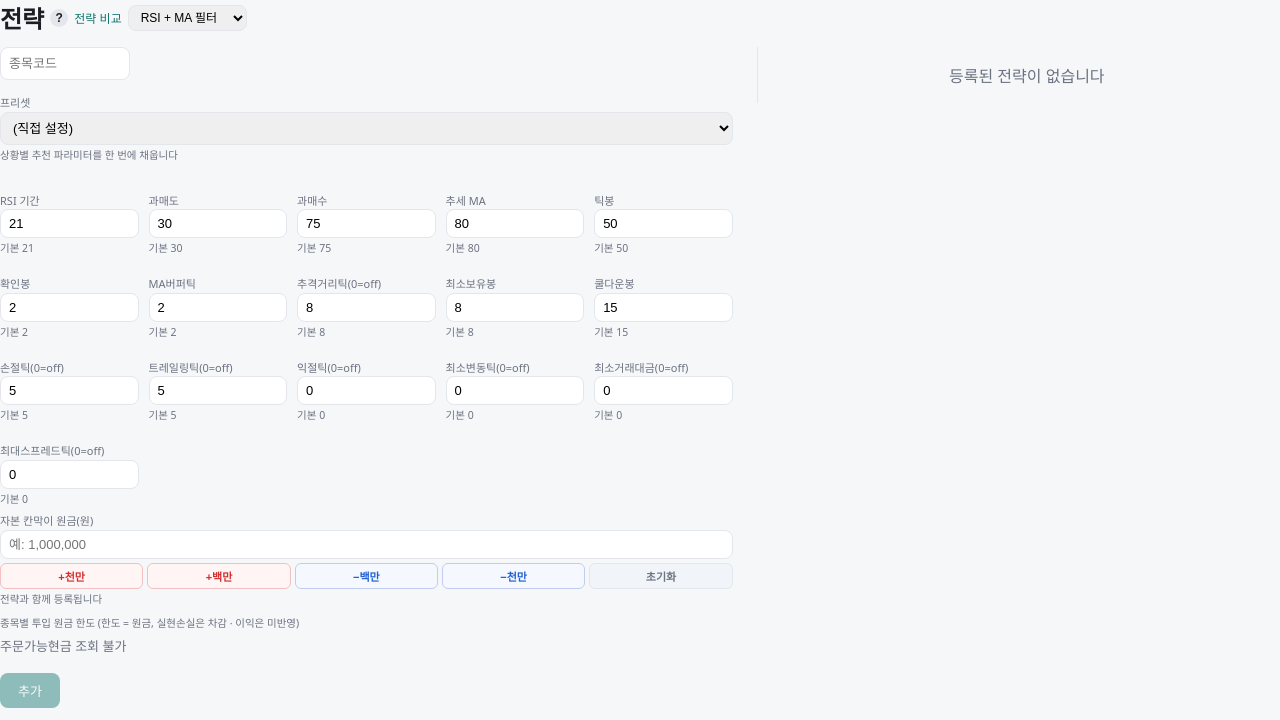
StrategyPanel › 전략 비교 버튼을 누르면 비교표 팝업이 뜬다
Click the button "전략 비교" at (98, 18), box [74,9,122,26]
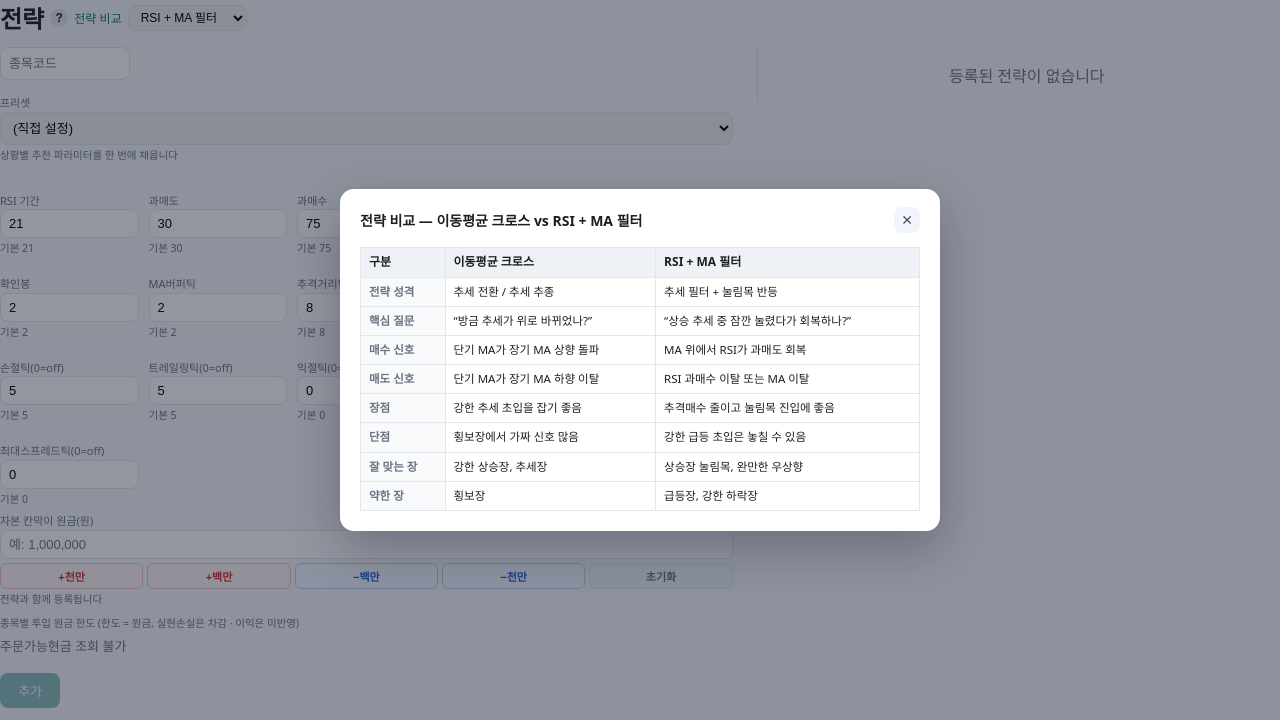
Check: the dialog shows "추세 전환 / 추세 추종", box [454,284,554,299]
Check: the dialog shows "추세 필터 + 눌림목 반등", box [664,284,778,299]
Check: the dialog shows "횡보장에서 가짜 신호 많음", box [454,430,579,444]
